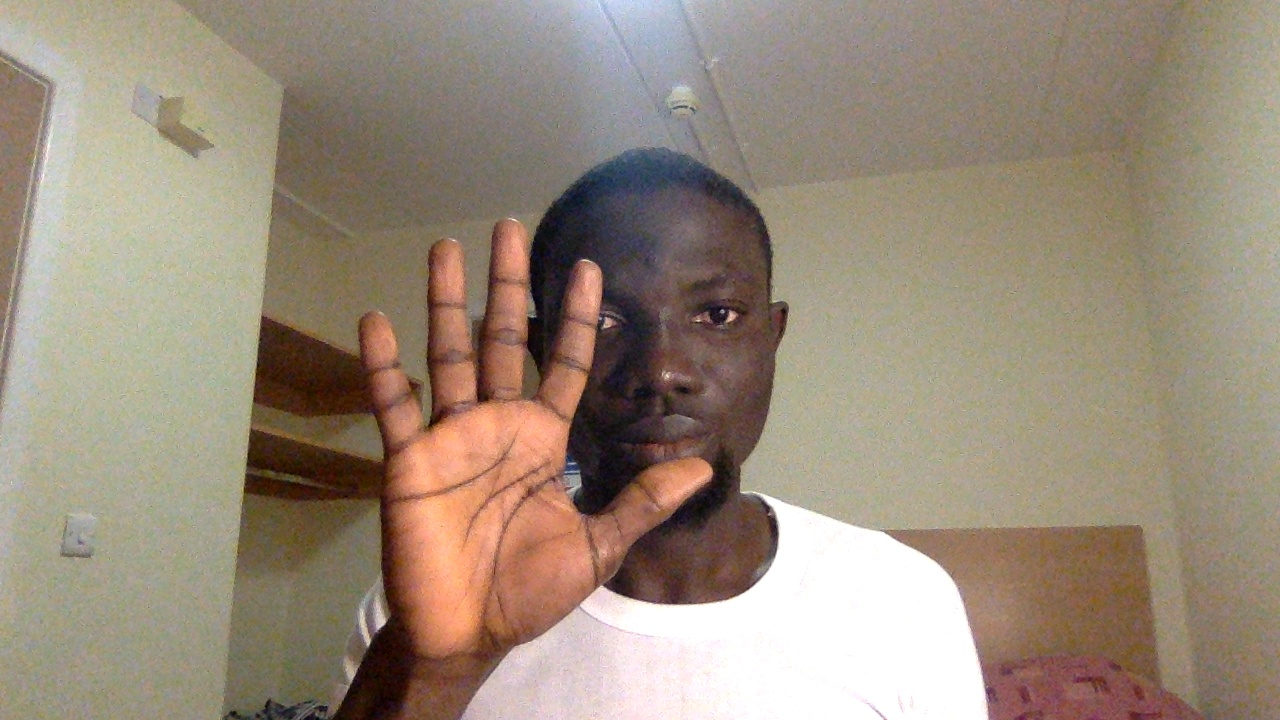Hello: (354, 205, 729, 668)
